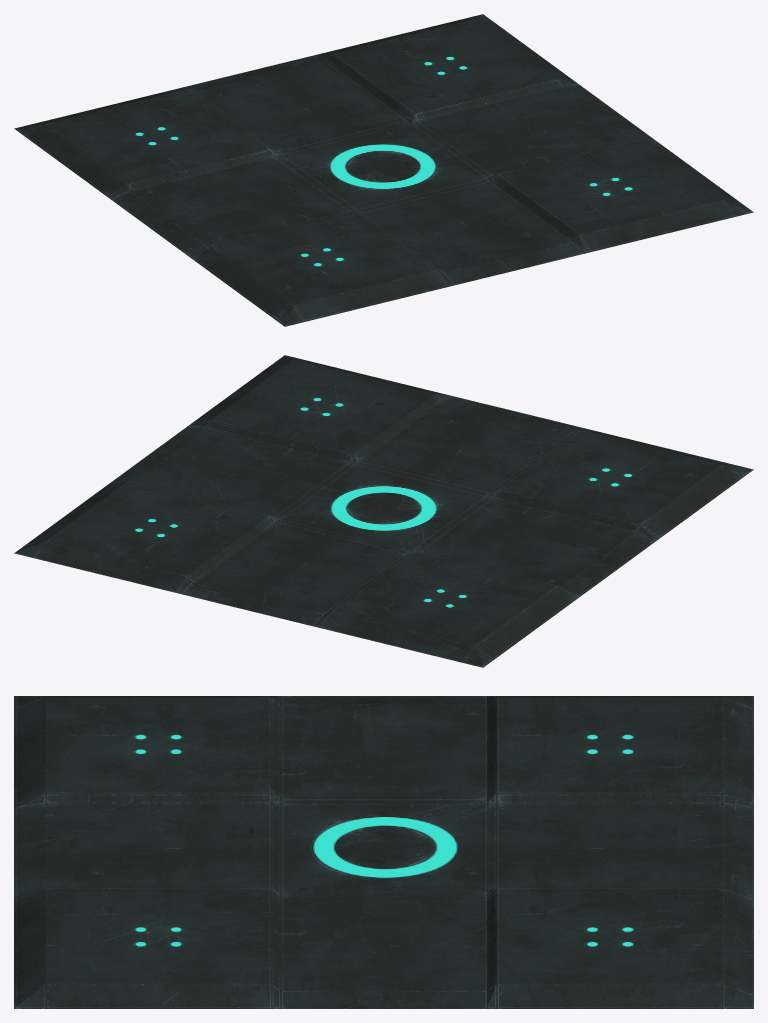
Rendered from Sci-Fi-Floor.obj.
3 views of the same model, one above another, from view 1: azimuth 30°, elevation 25°; view 2: azimuth 150°, elevation 25°; view 3: azimuth 270°, elevation 25° (orthographic). The views are drawn at different scales.
Visible parts, largest first — view 1: Plane; view 2: Plane; view 3: Plane.
Boxes of the visible parts, bbox=[...] form: Plane: bbox=[14, 14, 753, 326]; Plane: bbox=[14, 355, 753, 667]; Plane: bbox=[14, 696, 753, 1008].
Size of the model in its own units: 2 by 0.0357 by 2.
Materials: 1 (1 with a texture image).
